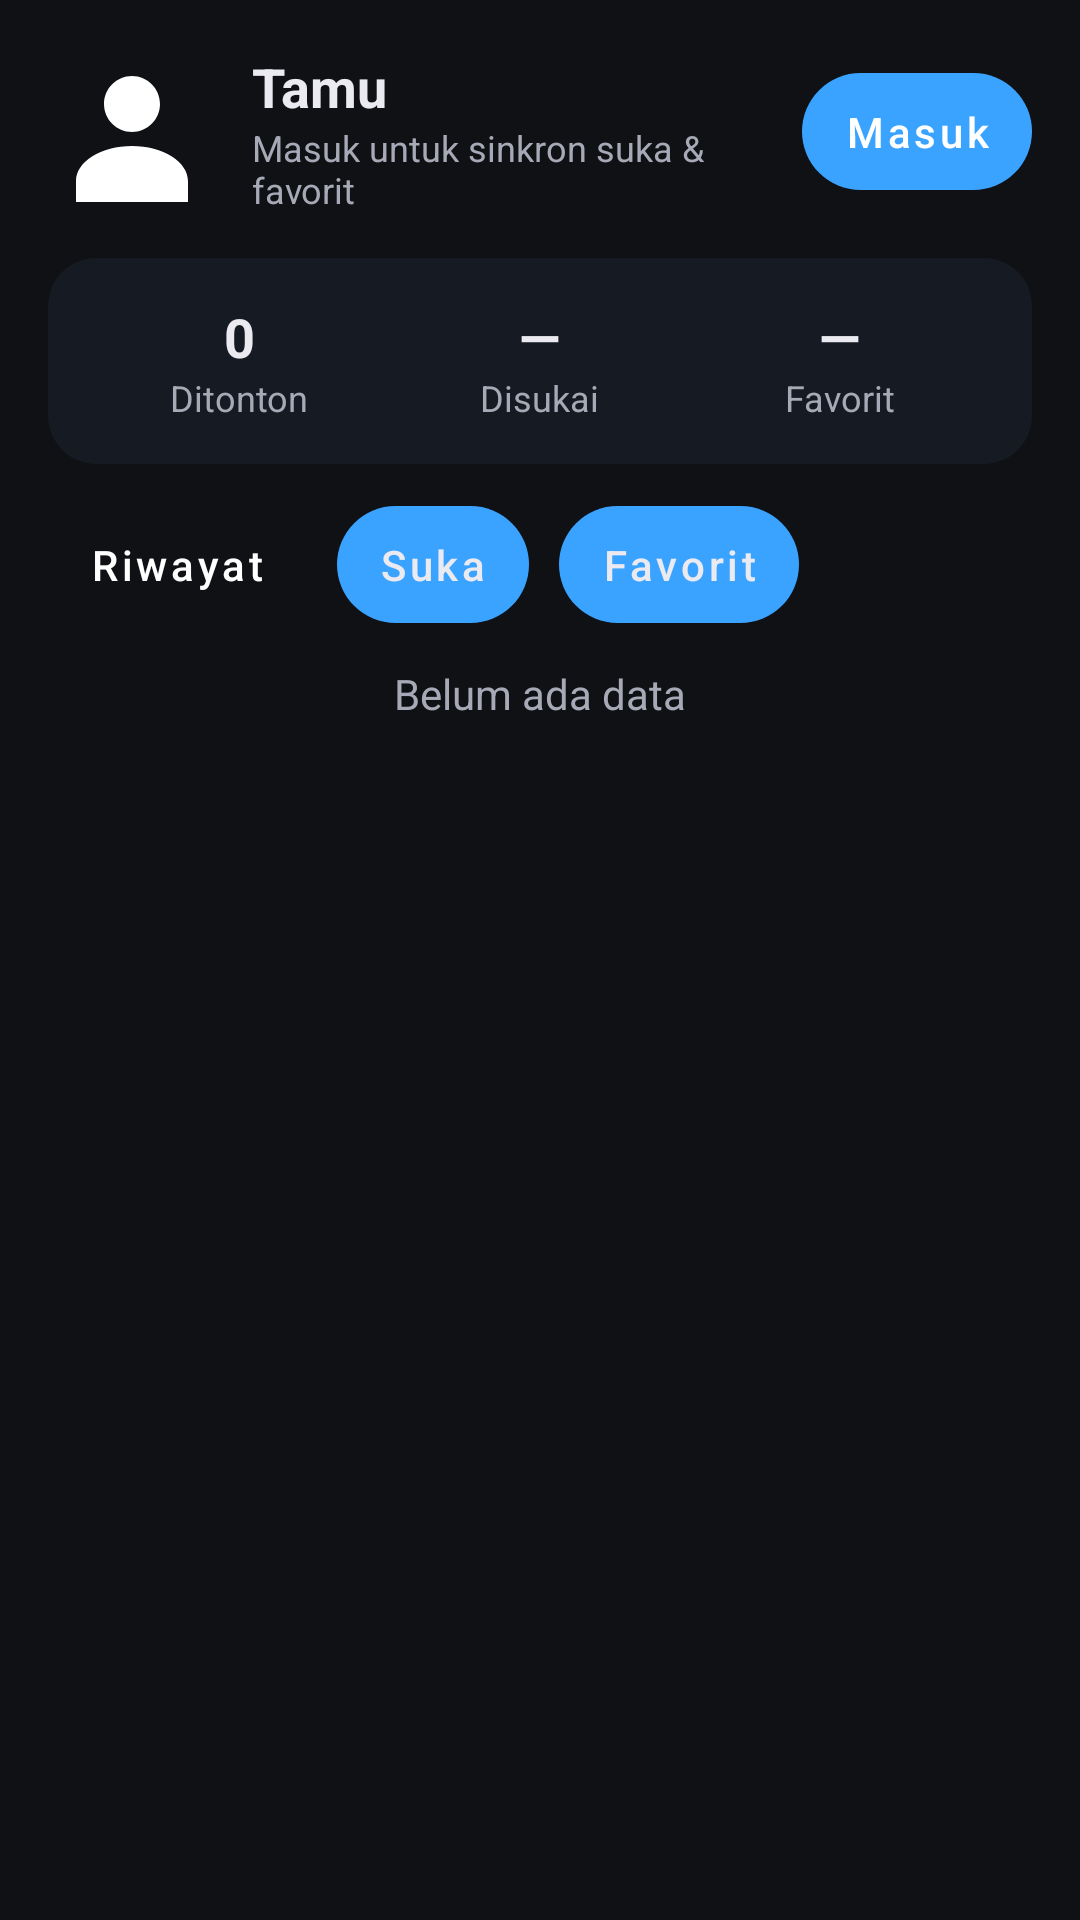

Icons on this 1080x1920 Android screen, each with the point to tap as point (x, y):
profile: point (132, 139)
